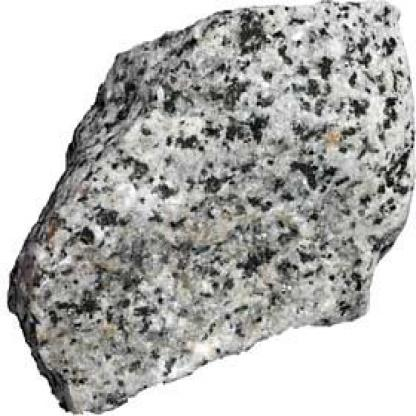Igneous_Granite: (7, 10, 414, 414)
